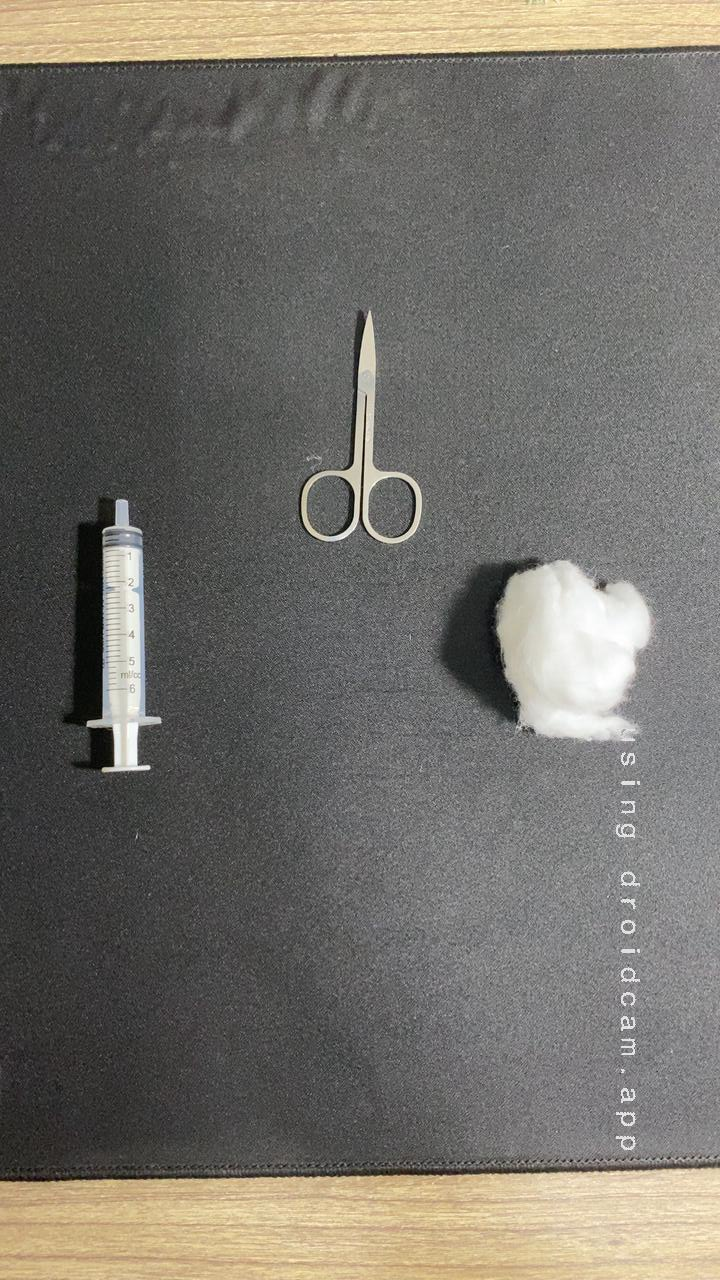cotton: (461, 531, 686, 757)
scissor: (275, 294, 440, 558)
syringe: (50, 488, 193, 785)
